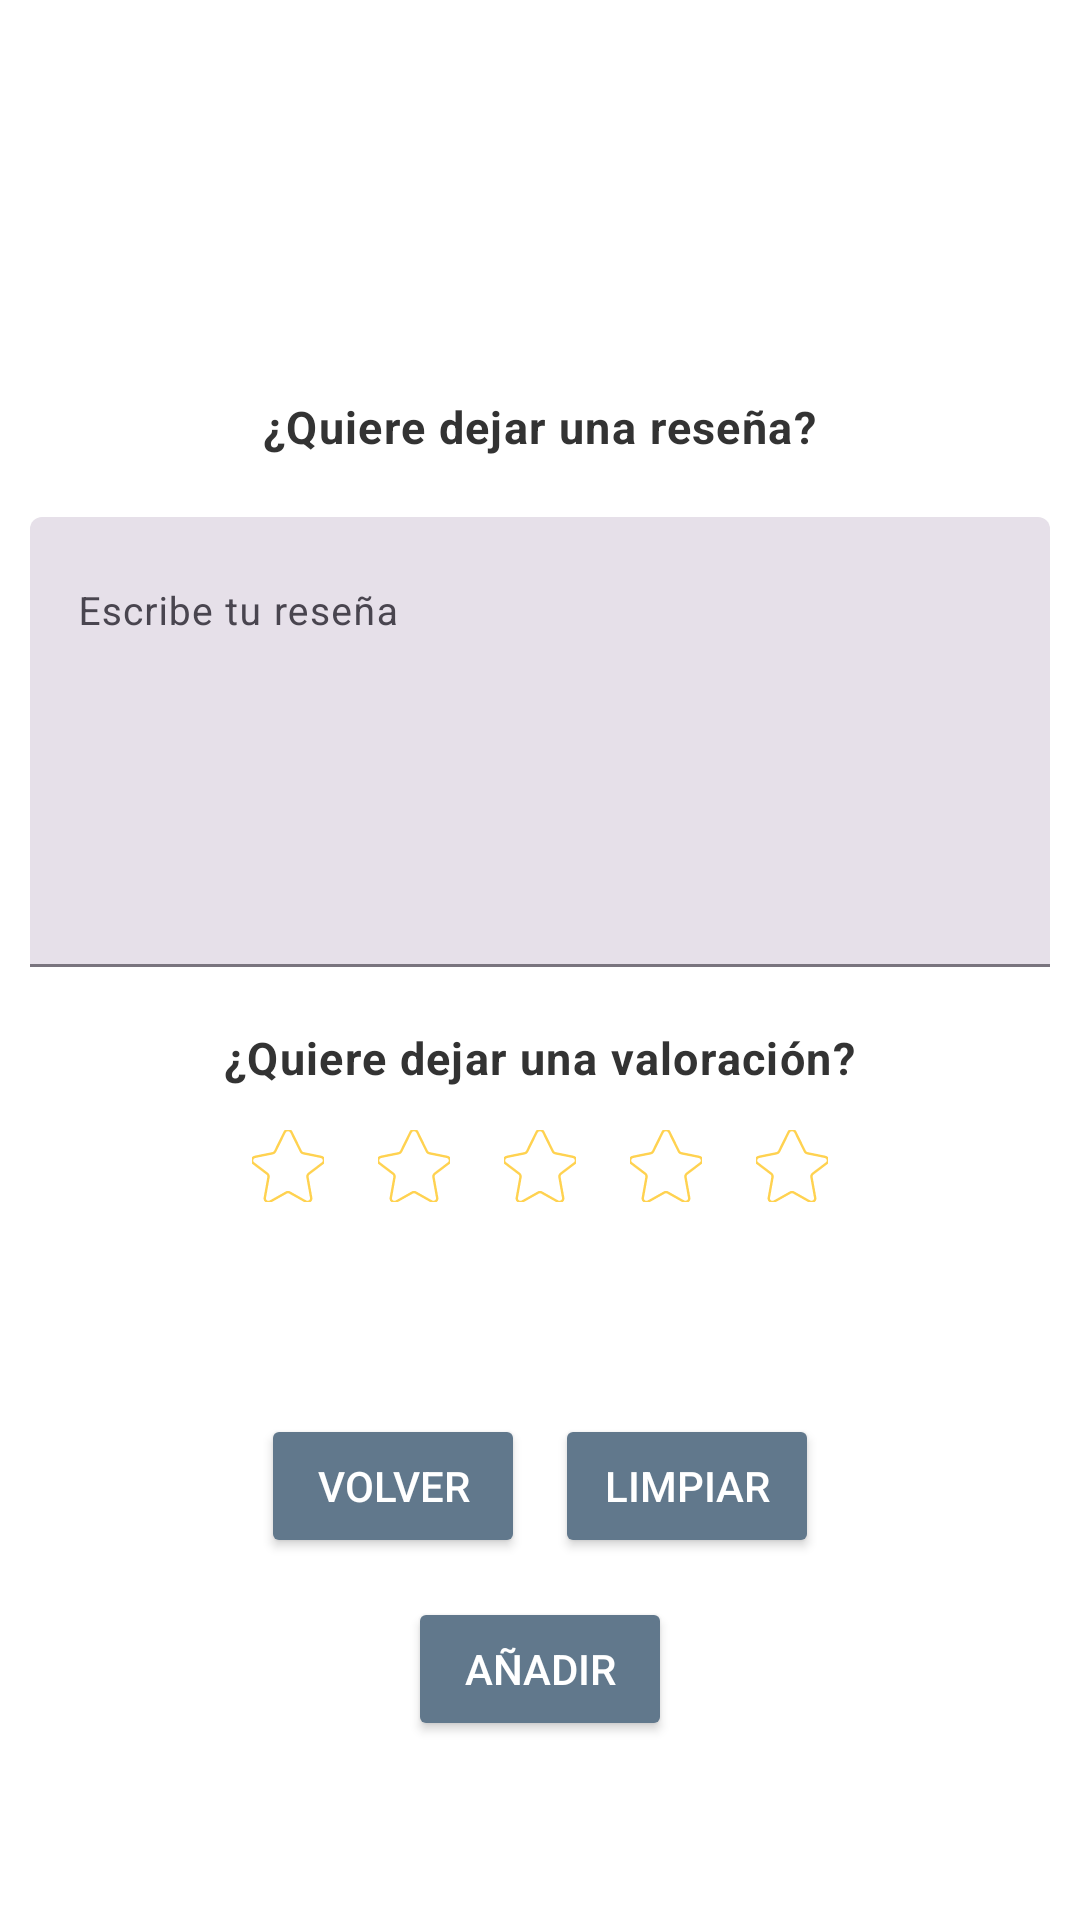

Icon click points for this 1080*1920 phone screenshot, format [x,y]:
not star: [288,1166], [414,1166], [540,1166], [666,1166], [792,1166]
